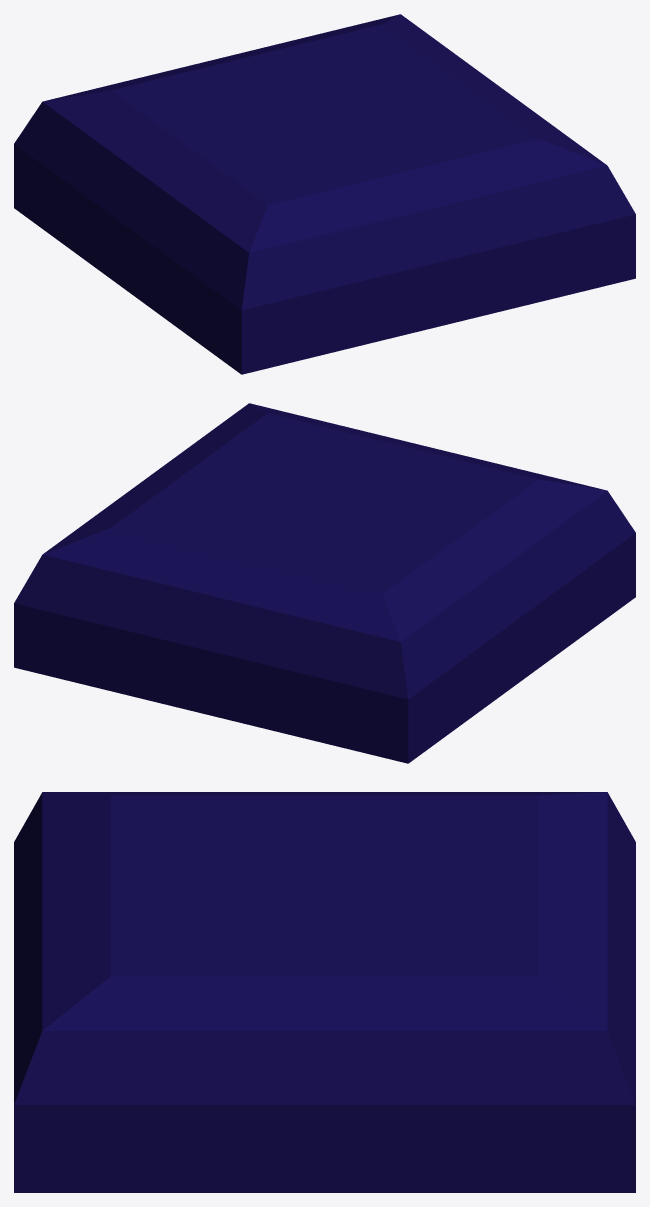
The model's file is gps_m8nblox.dae.
3 renders of one model, top to bottom at view 1: azimuth 30°, elevation 25°; view 2: azimuth 150°, elevation 25°; view 3: azimuth 270°, elevation 25°, orthographic. The views are drawn at different scales.
Visible parts, largest first — view 1: Gps_M8Nblox; view 2: Gps_M8Nblox; view 3: Gps_M8Nblox.
Part boxes in pixels (left/top/right/bottom): Gps_M8Nblox: left=14, top=14, right=635, bottom=374; Gps_M8Nblox: left=14, top=403, right=635, bottom=763; Gps_M8Nblox: left=14, top=792, right=635, bottom=1192.
Bounding box in the file's own units: 0.0385 × 0.0385 × 0.012.
